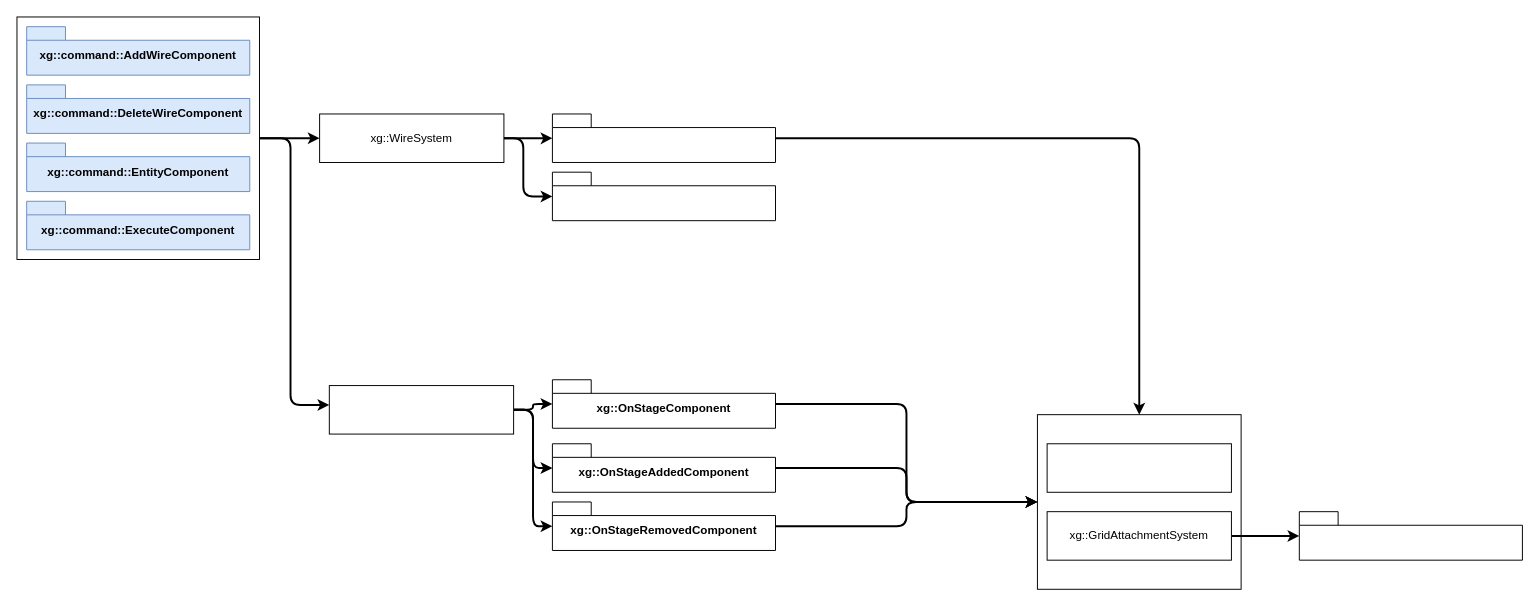
Some shapes in this 1539 by 606 pixel diagram are drawn without their labels. Each missing label, with the centre of its shape:
"xg::GridAttachmentsComponent" belongs at point (1410, 535).
"xg::OnStageSystem" belongs at point (421, 409).
"xg::Renderer" belongs at point (1138, 467).
"xg::WireComponent" belongs at point (663, 137).
"xg::WireCreatedComponent" belongs at point (663, 196).
